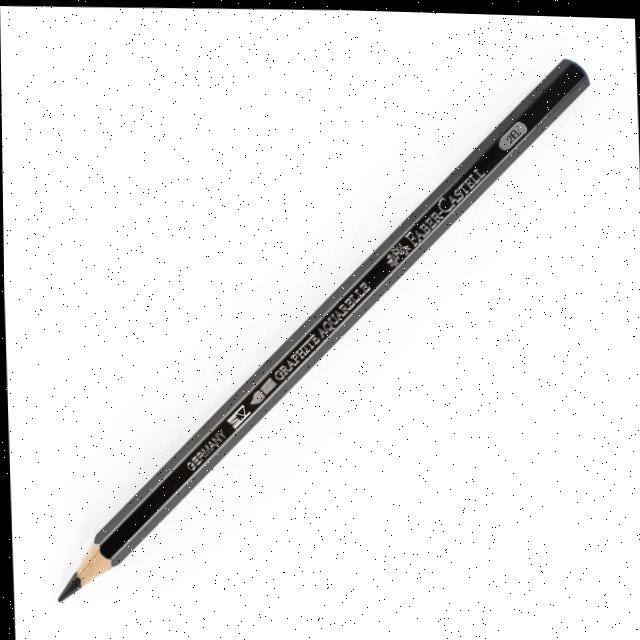pencil: (43, 46, 601, 617)
